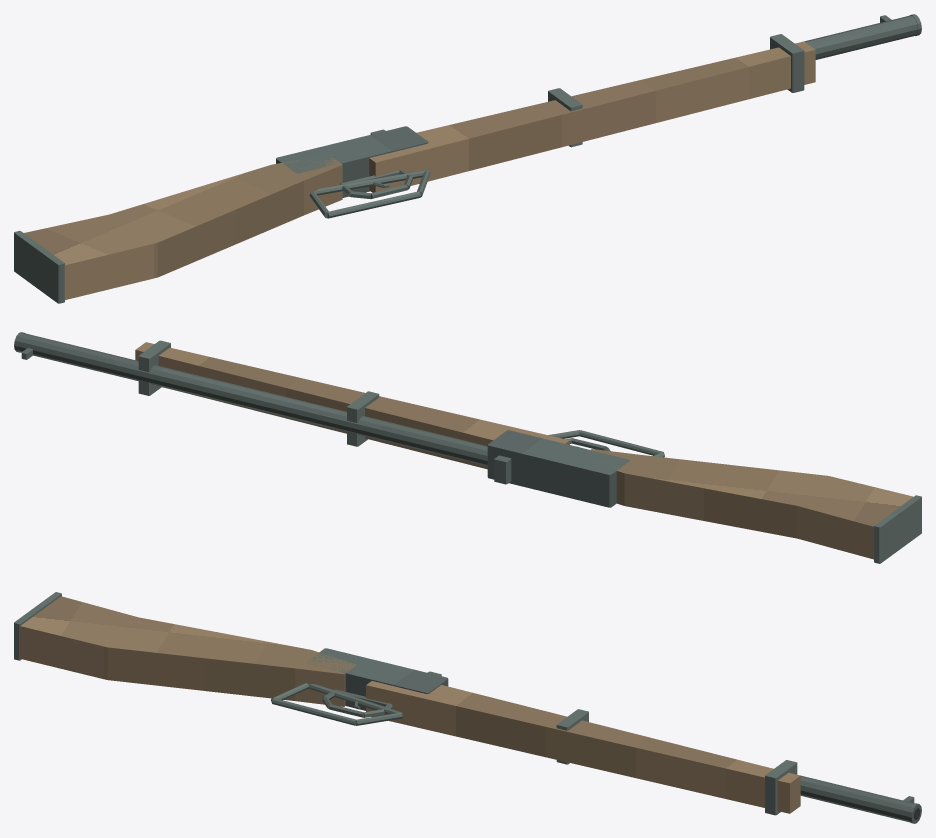
File: weapon-spencer.glb
The picture shows the model from 3 angles, top to bottom: view 1: azimuth 30°, elevation 25°; view 2: azimuth 150°, elevation 25°; view 3: azimuth 330°, elevation 25°; orthographic projection. The views are drawn at different scales.
Visible parts, largest first — view 1: weapon-spencer/tapered-full-depth-forend, weapon-spencer/shaped-solid-butt, weapon-spencer/central-receiver, weapon-spencer/long-barrel, weapon-spencer/butt-end-plate, weapon-spencer/stock-band-1, weapon-spencer/open-lever-loop-4, weapon-spencer/open-lever-loop-2; view 2: weapon-spencer/shaped-solid-butt, weapon-spencer/long-barrel, weapon-spencer/tapered-full-depth-forend, weapon-spencer/central-receiver, weapon-spencer/butt-end-plate, weapon-spencer/stock-band-1, weapon-spencer/stock-band-0, weapon-spencer/open-lever-loop-2; view 3: weapon-spencer/shaped-solid-butt, weapon-spencer/tapered-full-depth-forend, weapon-spencer/central-receiver, weapon-spencer/long-barrel, weapon-spencer/stock-band-1, weapon-spencer/open-lever-loop-2, weapon-spencer/butt-end-plate, weapon-spencer/open-lever-loop-4.
Boxes of the visible parts, x1,y1,x2,y2 form: weapon-spencer/tapered-full-depth-forend: [369, 41, 815, 192]; weapon-spencer/shaped-solid-butt: [24, 156, 342, 299]; weapon-spencer/central-receiver: [276, 126, 428, 197]; weapon-spencer/long-barrel: [804, 15, 917, 59]; weapon-spencer/butt-end-plate: [14, 230, 64, 303]; weapon-spencer/stock-band-1: [770, 34, 804, 92]; weapon-spencer/open-lever-loop-4: [314, 170, 426, 195]; weapon-spencer/open-lever-loop-2: [327, 191, 420, 218]; weapon-spencer/shaped-solid-butt: [590, 449, 913, 559]; weapon-spencer/long-barrel: [17, 333, 487, 466]; weapon-spencer/tapered-full-depth-forend: [135, 342, 569, 469]; weapon-spencer/central-receiver: [487, 430, 630, 507]; weapon-spencer/butt-end-plate: [874, 495, 921, 563]; weapon-spencer/stock-band-1: [138, 340, 170, 395]; weapon-spencer/stock-band-0: [347, 391, 379, 446]; weapon-spencer/open-lever-loop-2: [579, 430, 663, 455]; weapon-spencer/shaped-solid-butt: [20, 596, 356, 706]; weapon-spencer/tapered-full-depth-forend: [366, 681, 800, 813]; weapon-spencer/central-receiver: [307, 648, 448, 710]; weapon-spencer/long-barrel: [800, 775, 914, 822]; weapon-spencer/stock-band-1: [765, 760, 797, 815]; weapon-spencer/open-lever-loop-2: [271, 698, 356, 725]; weapon-spencer/butt-end-plate: [14, 592, 61, 660]; weapon-spencer/open-lever-loop-4: [308, 684, 403, 716].
Size of the model in its own units: 1.2 by 0.05 by 0.1515.
Materials: 3 (3 with a texture image).
